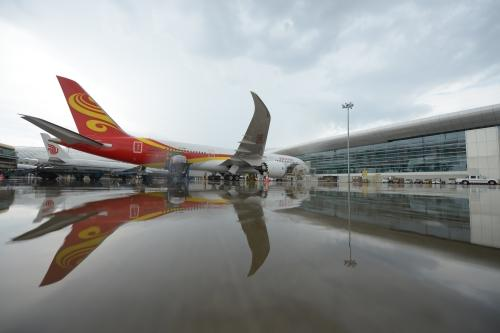airplane: (20, 71, 316, 184)
